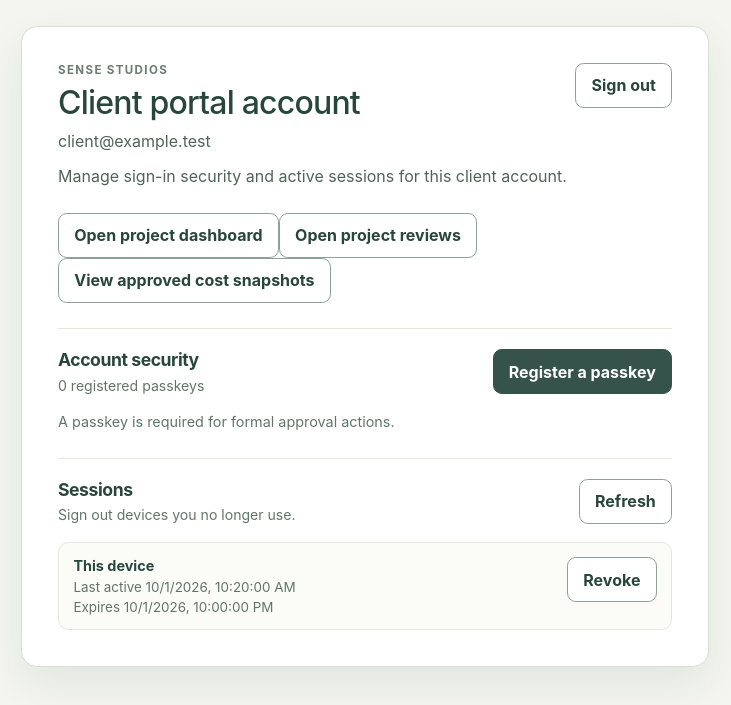
Scenario: client portal identity and security › posts revocation with this account’s CSRF token and restores the session afterward
Click the button "Revoke" at (612, 580), box [567, 557, 657, 602]
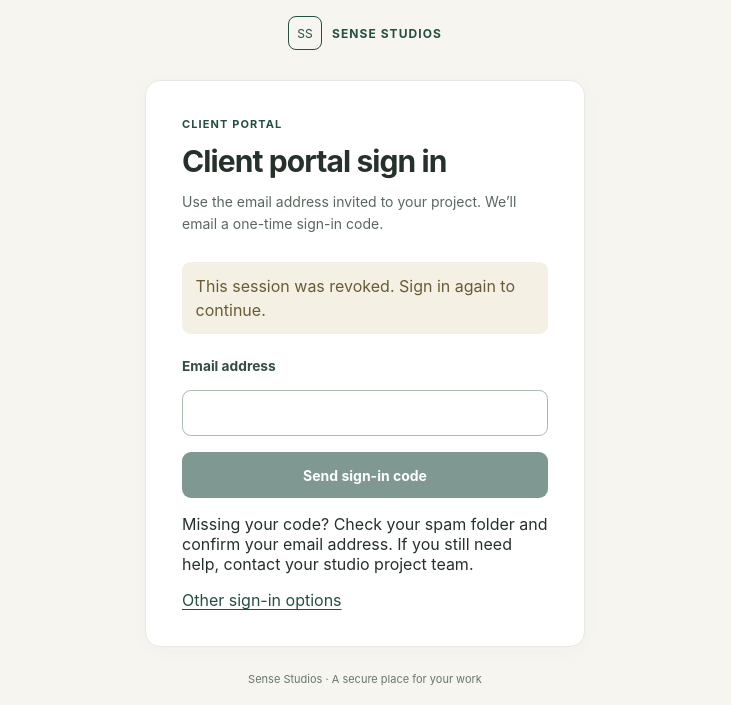
Expected: the field labelled "Email address" is shown, [182, 390, 548, 436]
Expected: the message shows "session was revoked", [196, 276, 515, 320]
